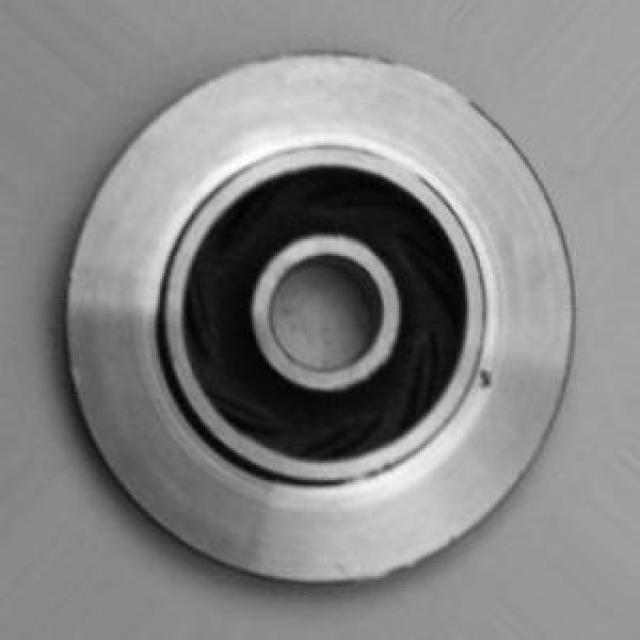Defect: (470, 363, 503, 394)
